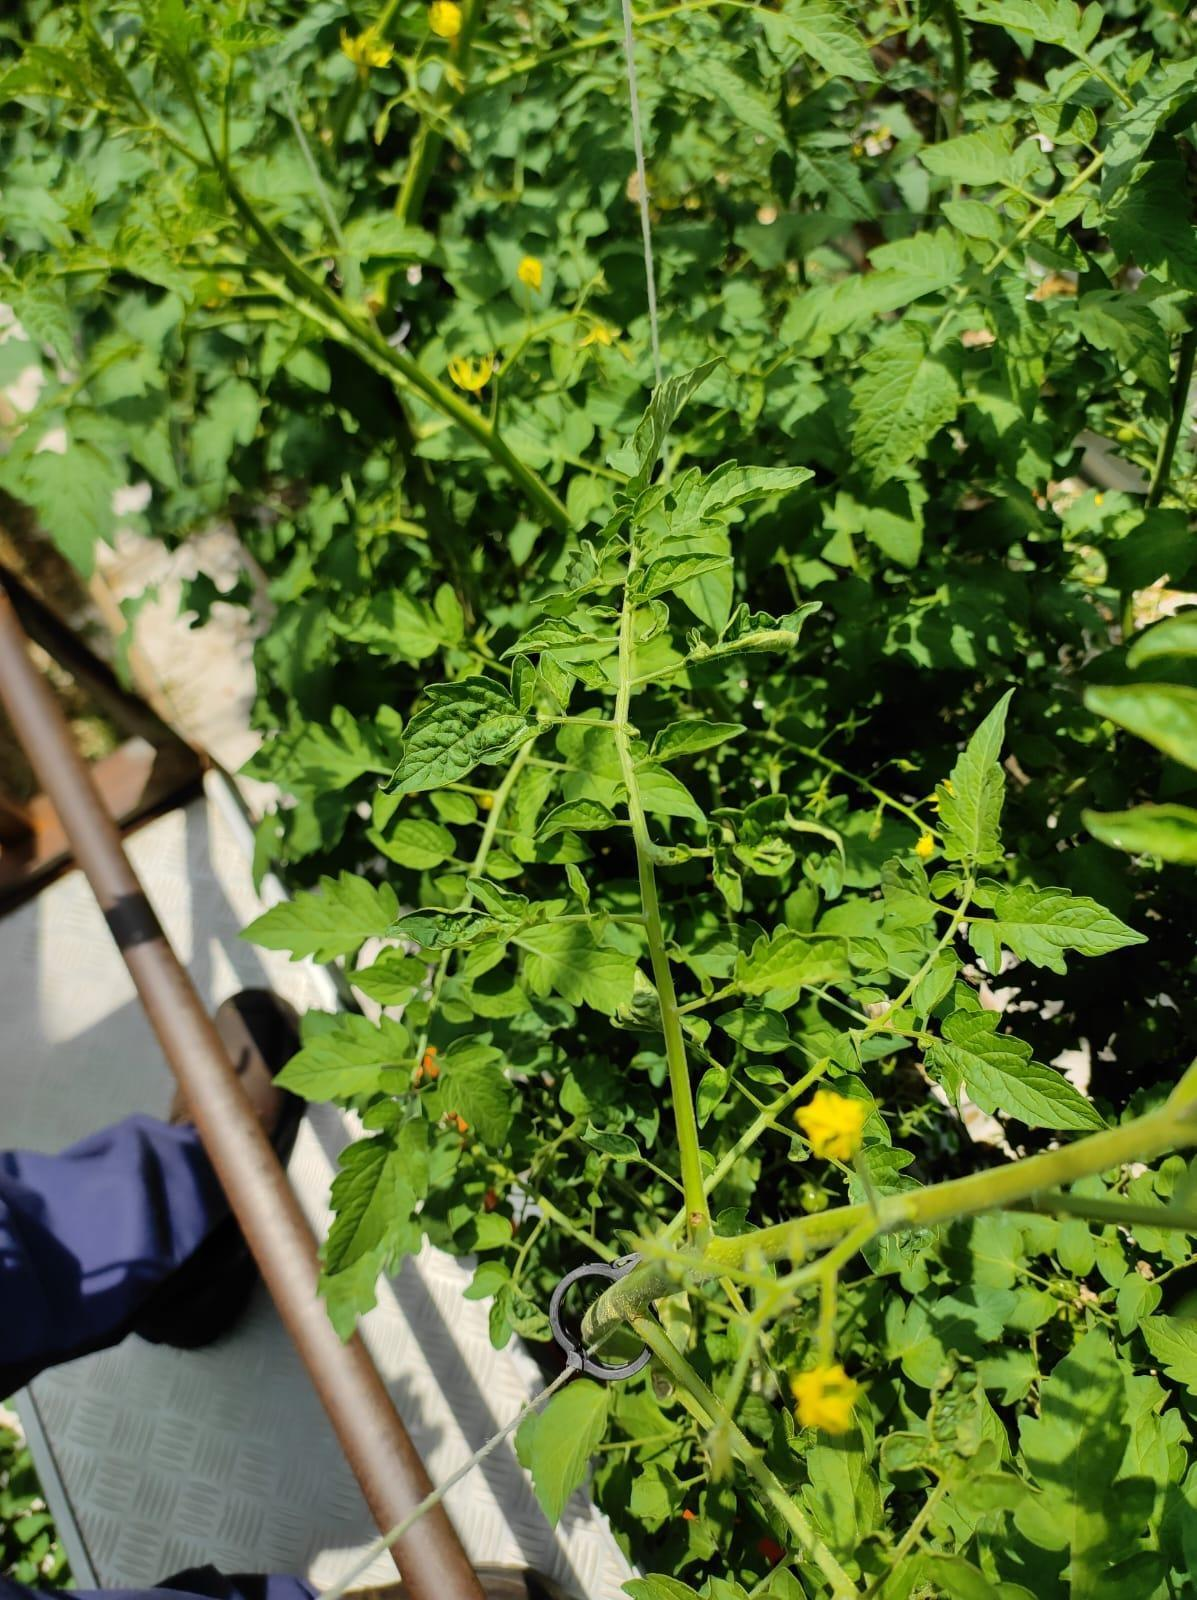Hoja: (278, 1013, 510, 1326), (923, 1008, 1106, 1130), (382, 674, 531, 794), (969, 886, 1148, 975)
Pedunculo: (625, 772, 709, 1229), (731, 1427, 861, 1599)
